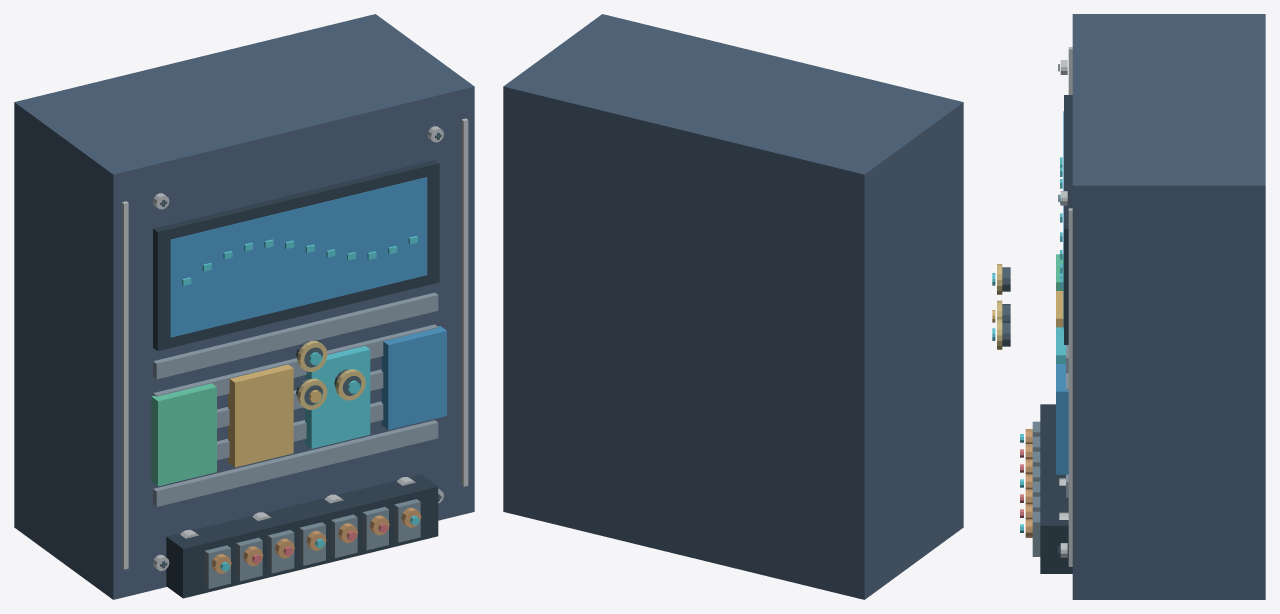
File: 49_L83_PowerDistributionUnit.glb
3 renders of one model, left to right at view 1: azimuth 30°, elevation 25°; view 2: azimuth 150°, elevation 25°; view 3: azimuth 270°, elevation 25°, orthographic. The views are drawn at different scales.
Visible parts, largest first — view 1: PowerDistributionUnit_Node_0000, PowerDistributionUnit_Node_0008, PowerDistributionUnit_Node_0007, PowerDistributionUnit_Node_0046, PowerDistributionUnit_Node_0068, PowerDistributionUnit_Node_0069, PowerDistributionUnit_Node_0071, PowerDistributionUnit_Node_0021, PowerDistributionUnit_Node_0025, PowerDistributionUnit_Node_0070, PowerDistributionUnit_Node_0006, PowerDistributionUnit_Node_0005 (+10 smaller); view 2: PowerDistributionUnit_Node_0000; view 3: PowerDistributionUnit_Node_0000, PowerDistributionUnit_Node_0046, PowerDistributionUnit_Node_0006, PowerDistributionUnit_Node_0007, PowerDistributionUnit_Node_0071, PowerDistributionUnit_Node_0065.
Part boxes in pixels (x1,y1,x2,y2): PowerDistributionUnit_Node_0000: (14,14,474,599); PowerDistributionUnit_Node_0008: (170,177,427,337); PowerDistributionUnit_Node_0007: (153,160,439,350); PowerDistributionUnit_Node_0046: (166,474,438,598); PowerDistributionUnit_Node_0068: (151,383,216,486); PowerDistributionUnit_Node_0069: (228,364,293,467); PowerDistributionUnit_Node_0071: (381,326,446,429); PowerDistributionUnit_Node_0021: (153,420,438,506); PowerDistributionUnit_Node_0025: (153,292,438,379); PowerDistributionUnit_Node_0070: (305,346,370,448); PowerDistributionUnit_Node_0006: (461,118,468,486); PowerDistributionUnit_Node_0005: (122,201,128,569); PowerDistributionUnit_Node_0000: (503,14,963,599); PowerDistributionUnit_Node_0000: (1072,14,1265,599); PowerDistributionUnit_Node_0046: (1040,404,1072,573); PowerDistributionUnit_Node_0006: (1068,208,1072,566); PowerDistributionUnit_Node_0007: (1064,95,1072,344); PowerDistributionUnit_Node_0071: (1056,364,1068,474); PowerDistributionUnit_Node_0065: (1032,511,1040,556).
Bounding box in the file's own units: 1.6 × 1.8 × 1.08.
